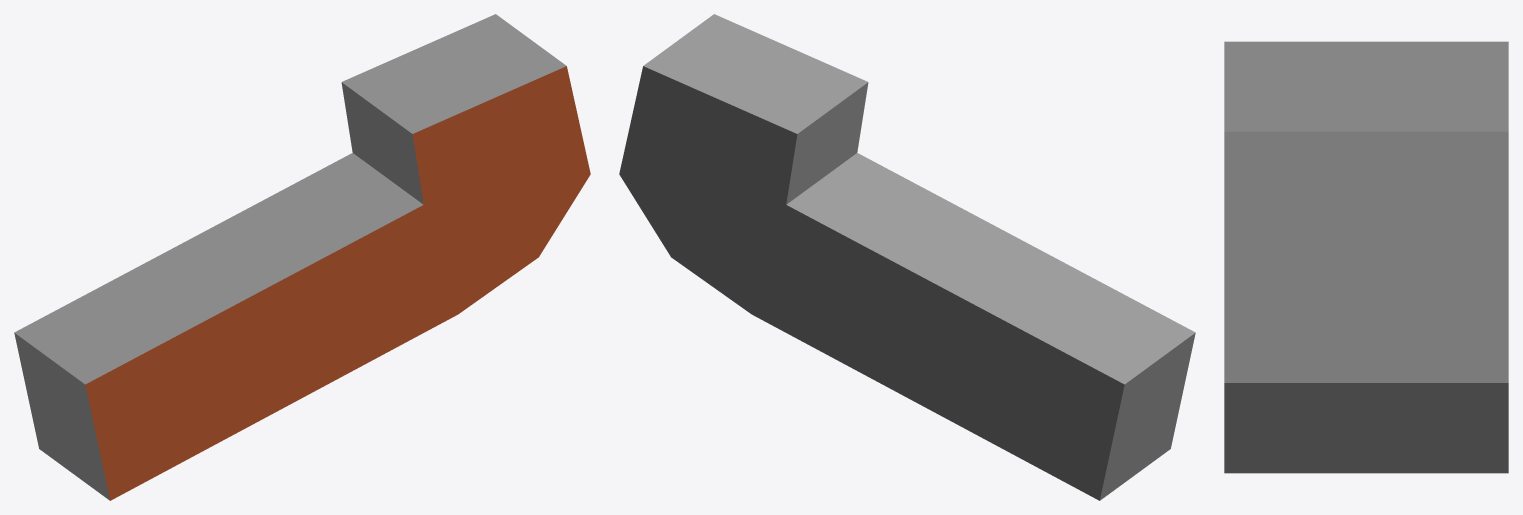
File: construction_0447_assumed_A_Casa_h6m.obj
The picture shows the model from 3 angles, left to right: view 1: azimuth 30°, elevation 25°; view 2: azimuth 150°, elevation 25°; view 3: azimuth 270°, elevation 25°; orthographic projection. The views are drawn at different scales.
Visible parts, largest first — view 1: construction_0447_assumed_A_Casa; view 2: construction_0447_assumed_A_Casa; view 3: construction_0447_assumed_A_Casa.
Part boxes in pixels (x1,y1,x2,y2): construction_0447_assumed_A_Casa: (14,14,590,500); construction_0447_assumed_A_Casa: (619,14,1195,500); construction_0447_assumed_A_Casa: (1224,41,1508,473).
Bounding box in the file's own units: 24.63 × 15.07 × 6.
